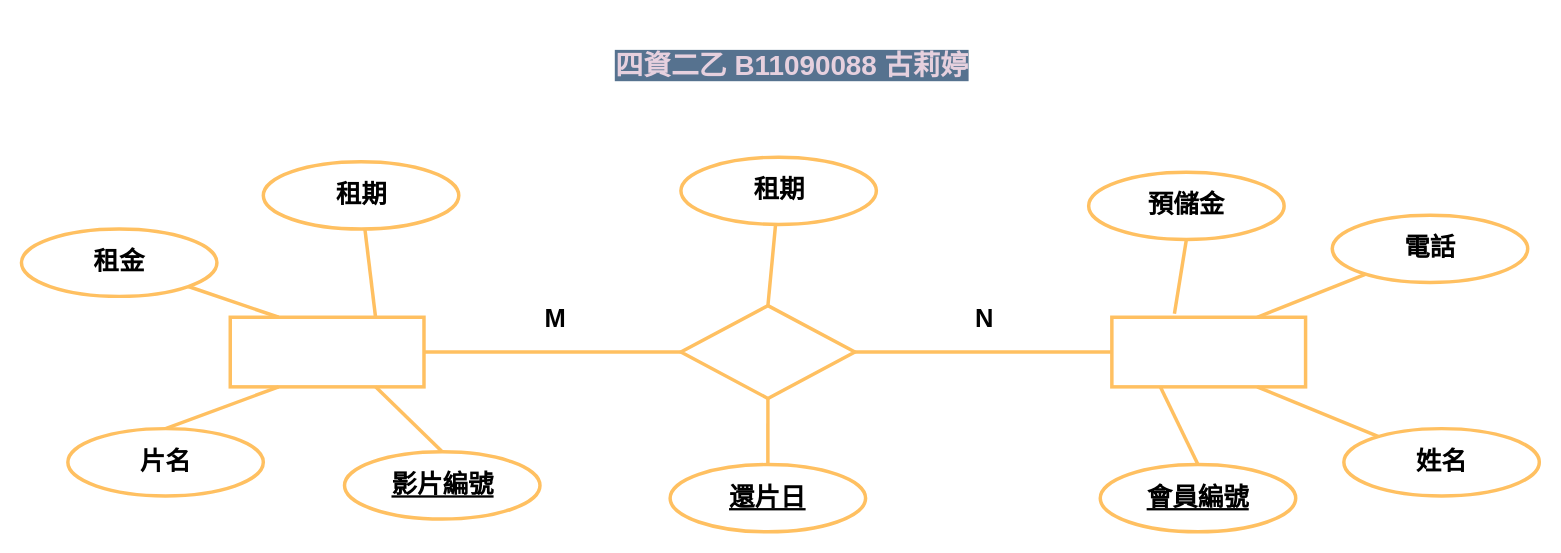
The diagram is 1561 pixels wide and 553 high, and some of its shapes have lost their labels. The shapes that lost their labels are listed below. From the top down, each one's box as (x1, y1, x2, y2) in pixels, then its label:
(228, 315, 425, 388): 影片
(679, 303, 856, 400): 租片
(1110, 315, 1307, 388): 會員
